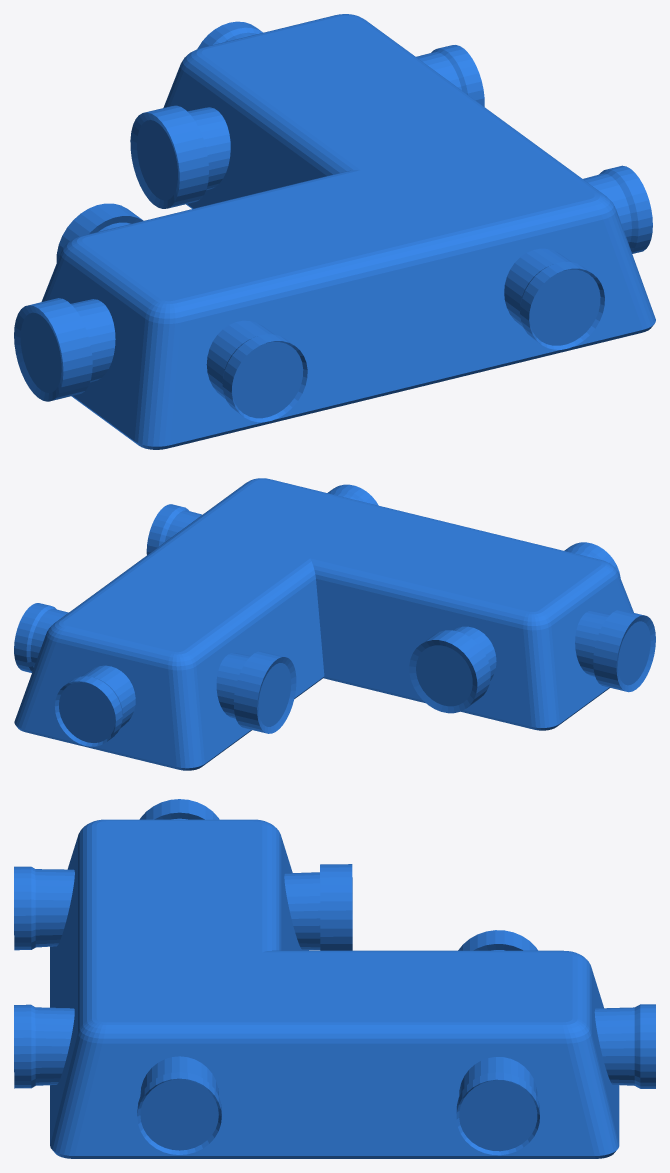
Rendered from 8num.fbx.
The picture shows the model from 3 angles, top to bottom: view 1: azimuth 30°, elevation 25°; view 2: azimuth 150°, elevation 25°; view 3: azimuth 270°, elevation 25°; orthographic projection. The views are drawn at different scales.
Visible parts, largest first — view 1: Cube.017; view 2: Cube.017; view 3: Cube.017.
Boxes of the visible parts, <box> form: Cube.017: <box>14,14,655,449</box>; Cube.017: <box>14,478,655,770</box>; Cube.017: <box>14,799,655,1158</box>.
Bounding box in the file's own units: 4.98 × 1 × 4.91.
